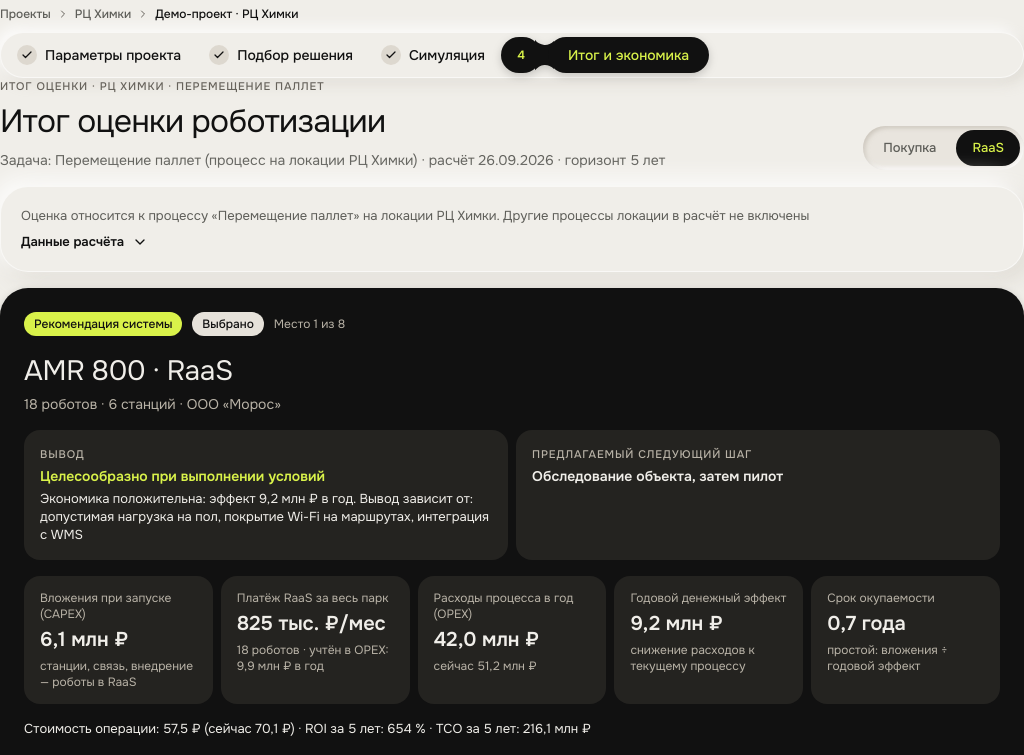
it: Шаг 4 «Итог и экономика» (экран 08, PRD 11.5, D-106) › переключатель в шапке показывает покупку (08a), выбор — только кнопкой «Выбрать этот сценарий»
Click the radio button labelled "Покупка" at (910,148), box top-left (867, 130), bottom-right (952, 166)
(page scrolled)
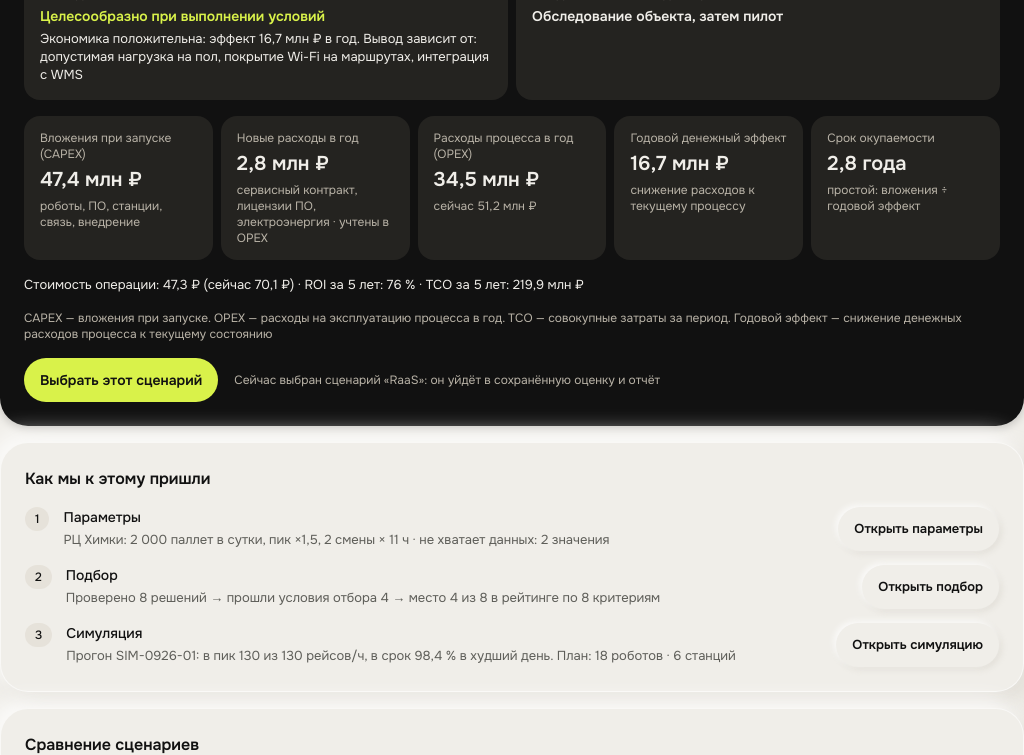
Click the button "Выбрать этот сценарий" at (121,380), box top-left (24, 358), bottom-right (218, 402)
(page scrolled)
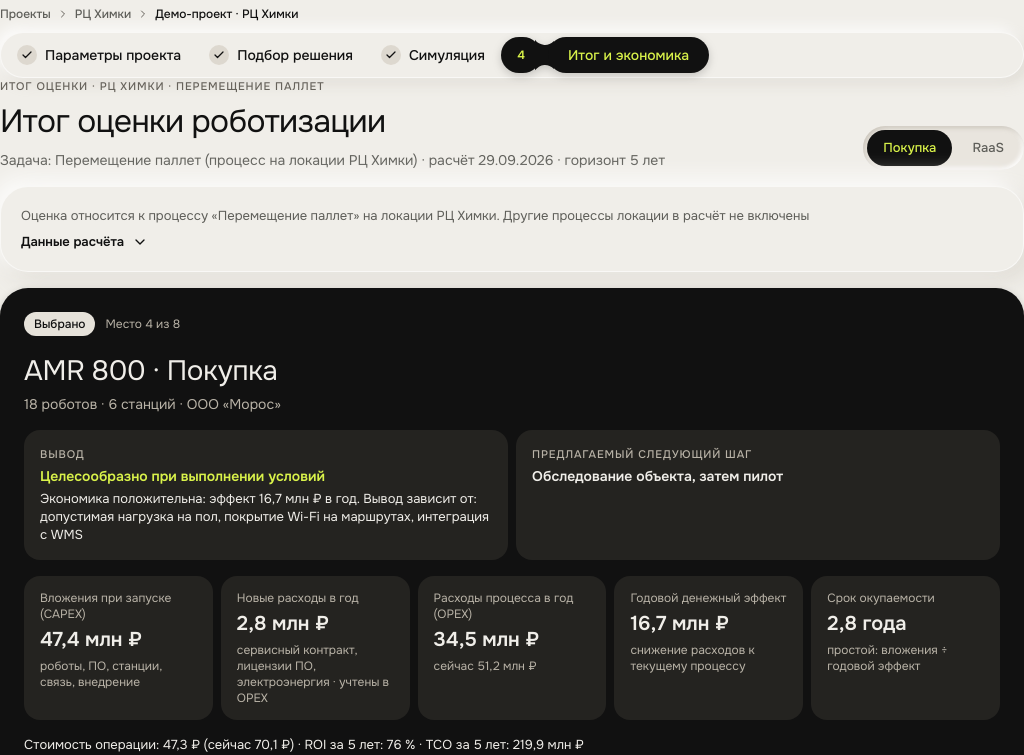
Expected: the text "Выбрано" is shown, top-left (24, 312), bottom-right (95, 336)
